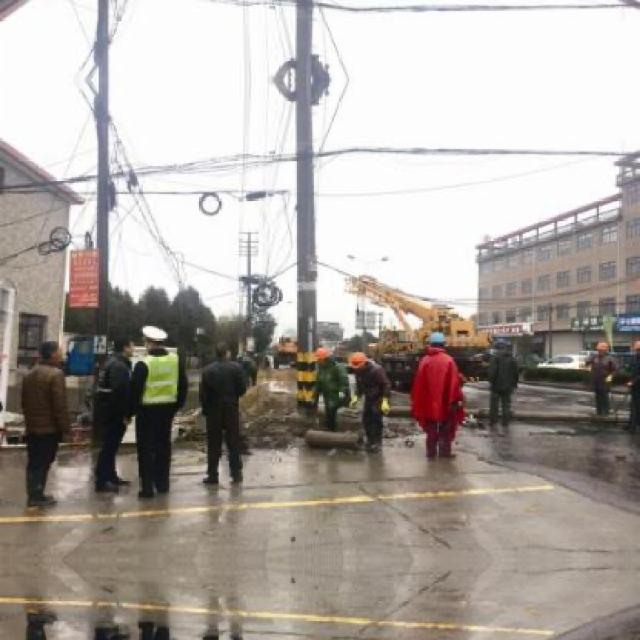con casco: (124, 308, 182, 360), (408, 322, 458, 370), (334, 347, 390, 383)
sin casco: (13, 334, 82, 372), (216, 332, 258, 372), (109, 347, 149, 370)
